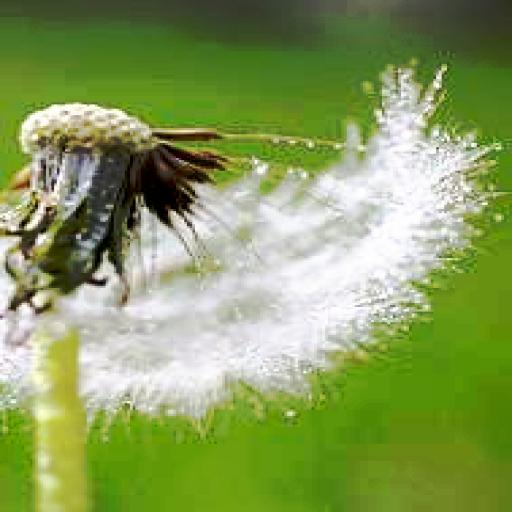dandelion: (2, 64, 512, 424)
